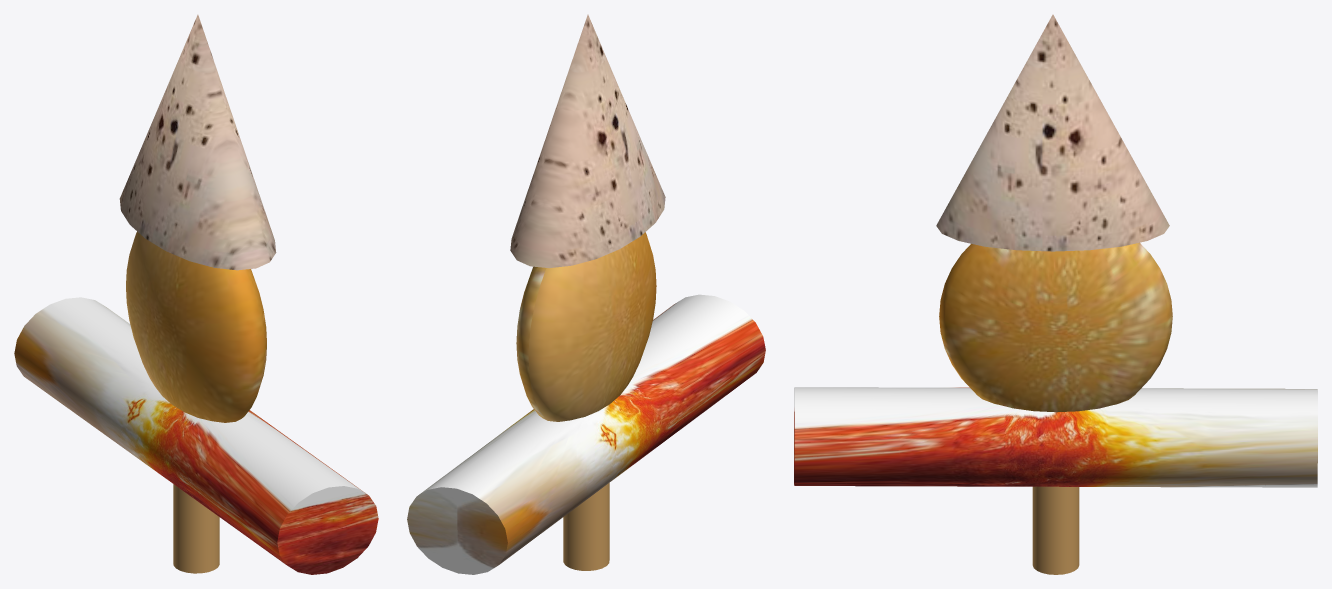
File: OdenKushiZasi.fbx
The picture shows the model from 3 angles, left to right: view 1: azimuth 30°, elevation 25°; view 2: azimuth 150°, elevation 25°; view 3: azimuth 270°, elevation 25°; orthographic projection.
Visible parts, largest first — view 1: pCone2; view 2: pCone2; view 3: pCone2.
Part boxes in pixels (box(x1,y1,x2,y2)): pCone2: box(14, 14, 378, 574); pCone2: box(407, 14, 765, 574); pCone2: box(794, 14, 1317, 574).
Size of the model in its own units: 1.04 by 5.2 by 4.48.
Materials: 2 (1 with a texture image).
